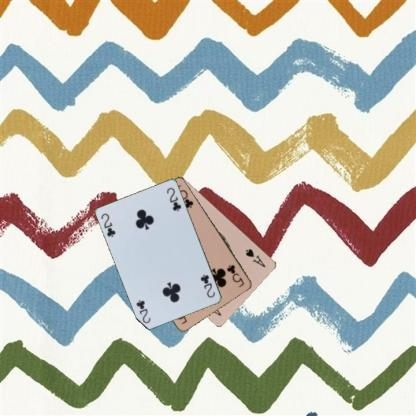2c: (99, 211, 117, 239), (198, 272, 216, 298)
5c: (224, 262, 246, 288)
As: (243, 246, 267, 269)
